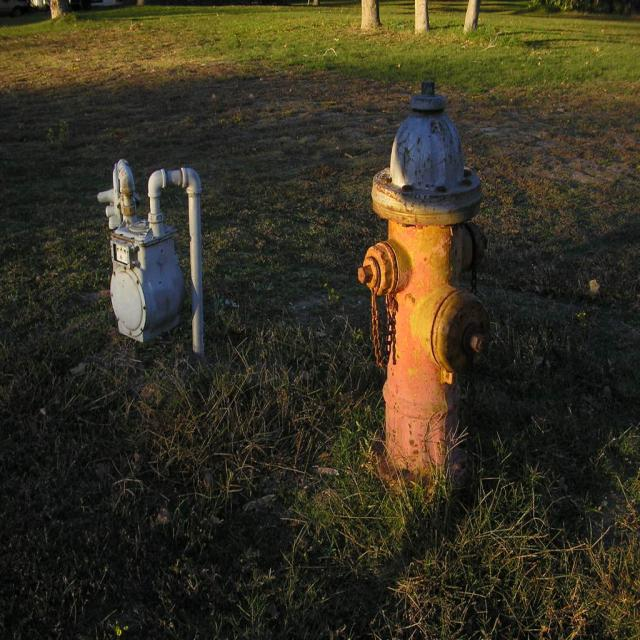fire_hydrant: (359, 83, 492, 490)
